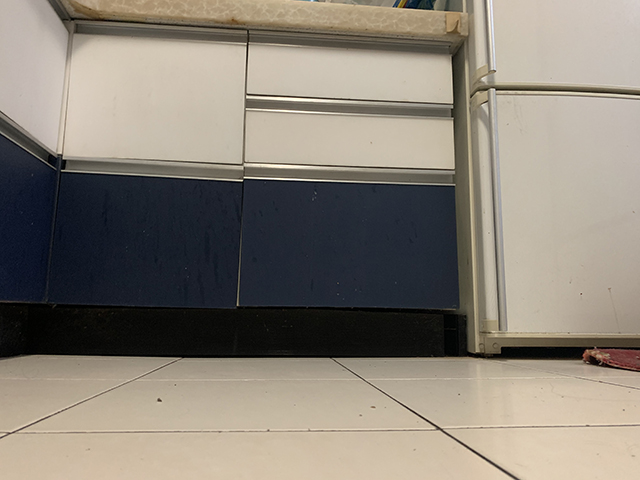cabinet: (39, 1, 471, 345)
carpet: (582, 345, 640, 374)
